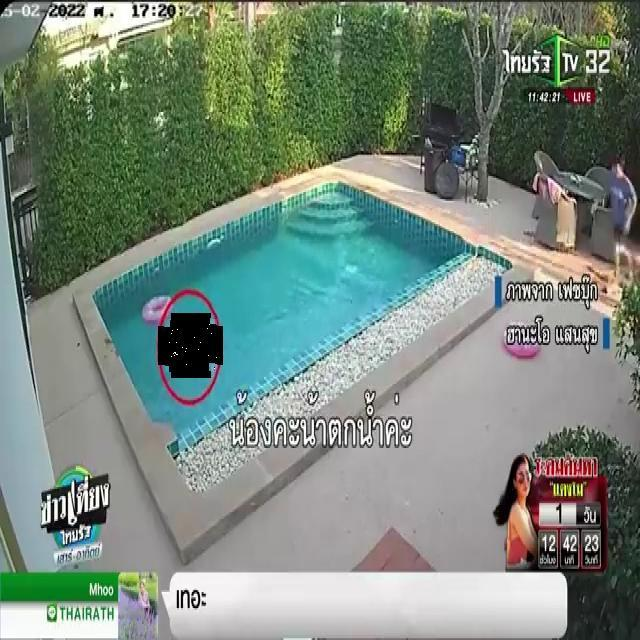Out of Water: (165, 319, 217, 372)
